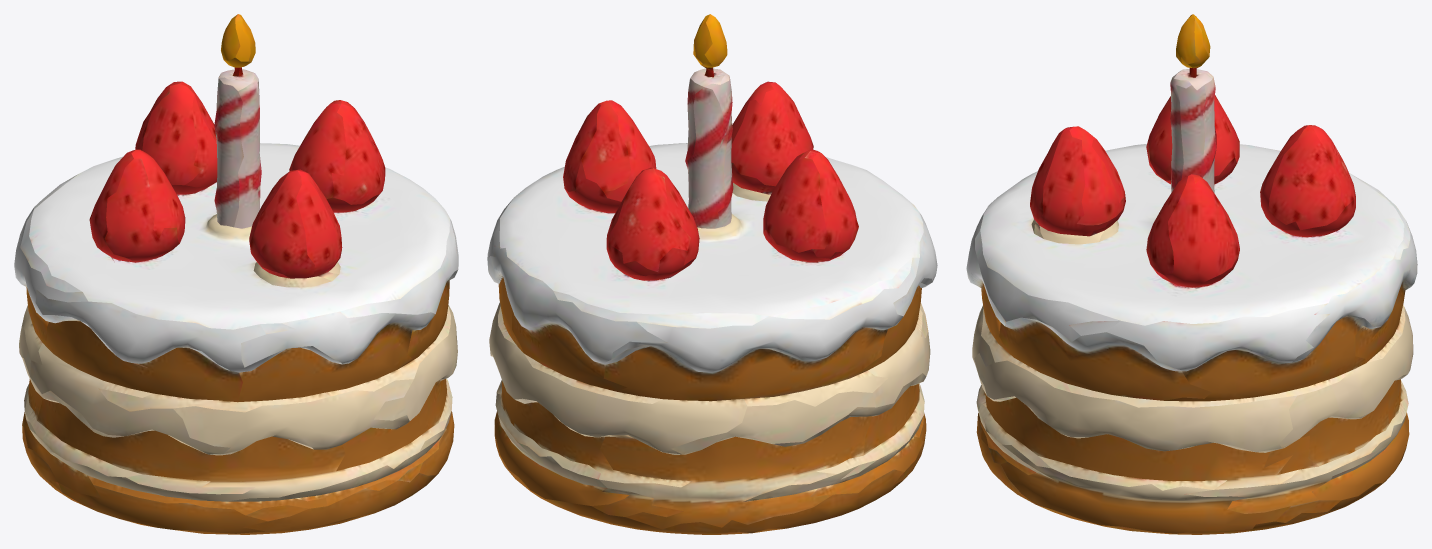
Rendered from a-layered-cake-with-white-cream-87612b.glb.
The picture shows the model from 3 angles, left to right: view 1: azimuth 30°, elevation 25°; view 2: azimuth 150°, elevation 25°; view 3: azimuth 270°, elevation 25°; orthographic projection.
Visible parts, largest first — view 1: geometry_0; view 2: geometry_0; view 3: geometry_0.
Part boxes in pixels (x1=…): geometry_0: x1=14, y1=14, x2=458, y2=534; geometry_0: x1=487, y1=14, x2=937, y2=534; geometry_0: x1=966, y1=14, x2=1417, y2=534.
Bounding box in the file's own units: 0.9305 × 1 × 0.9347.
Materials: 1 (1 with a texture image).
